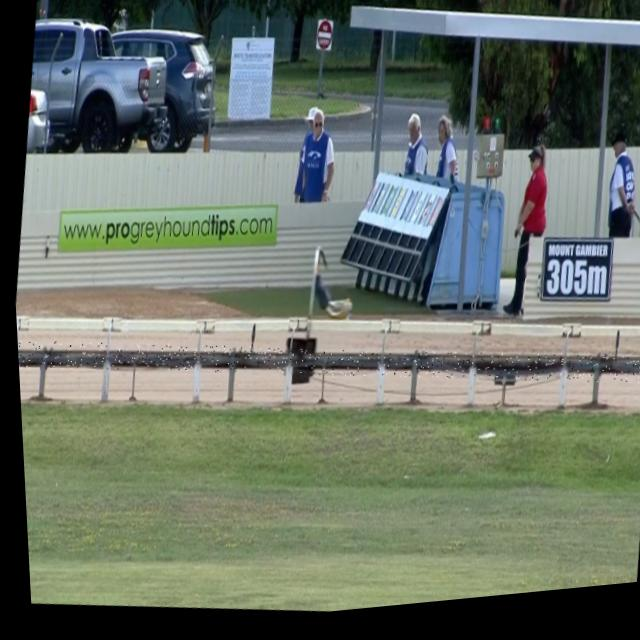rail: (14, 349, 640, 386)
